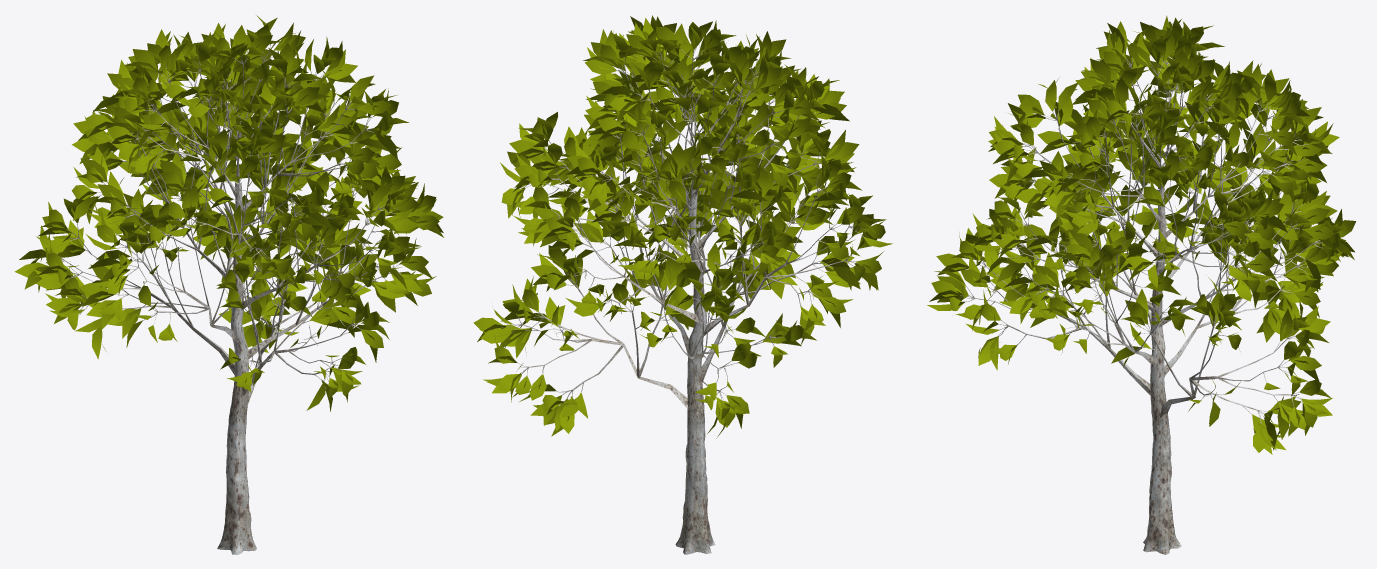
File: tree.gltf
3 renders of one model, left to right at view 1: azimuth 30°, elevation 25°; view 2: azimuth 150°, elevation 25°; view 3: azimuth 270°, elevation 25°, orthographic. The views are drawn at different scales.
Parts seen in each view (by area): view 1: Forester_Tree; view 2: Forester_Tree; view 3: Forester_Tree.
Part boxes in pixels (x1,y1,x2,y2): Forester_Tree: [14, 15, 443, 554]; Forester_Tree: [473, 15, 892, 554]; Forester_Tree: [927, 15, 1356, 554].
Size of the model in its own units: 17.55 by 25.96 by 19.96.
2 materials, 1 textured.
